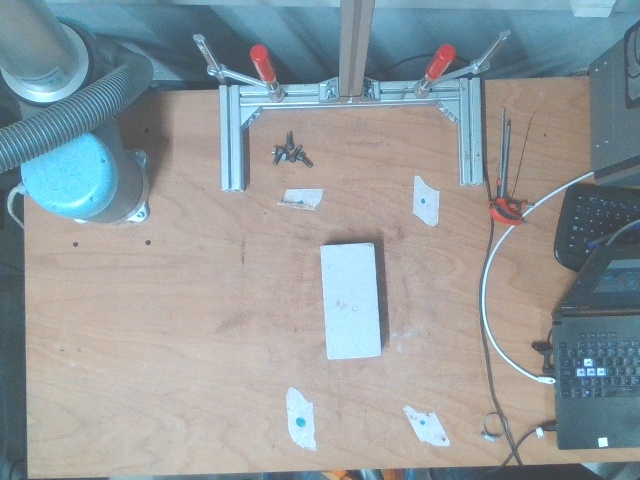brick: (321, 244, 382, 358)
